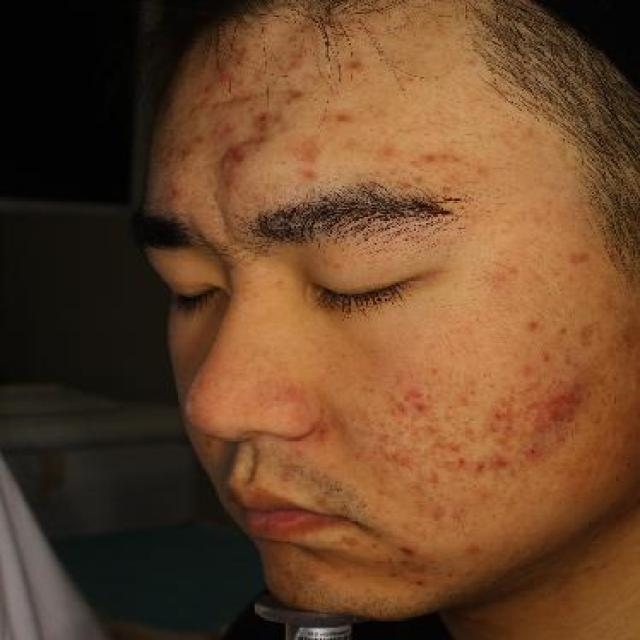dark spot: (517, 364, 594, 468), (406, 143, 474, 175), (550, 242, 598, 278), (513, 306, 553, 348), (318, 95, 358, 137), (388, 380, 432, 418), (364, 137, 406, 165)
nodules: (212, 119, 272, 186)
